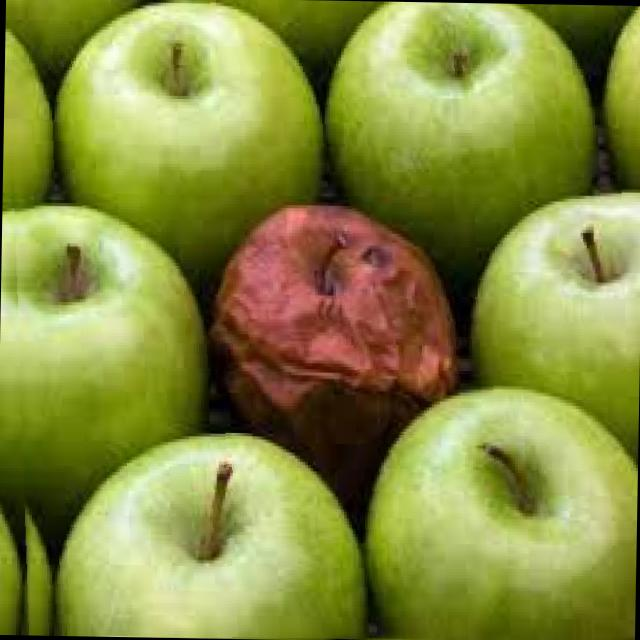Organic: (0, 0, 640, 640), (191, 194, 447, 489)
